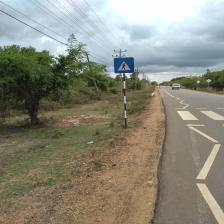blueboard: (114, 57, 134, 74)
crossing: (157, 86, 223, 223)
